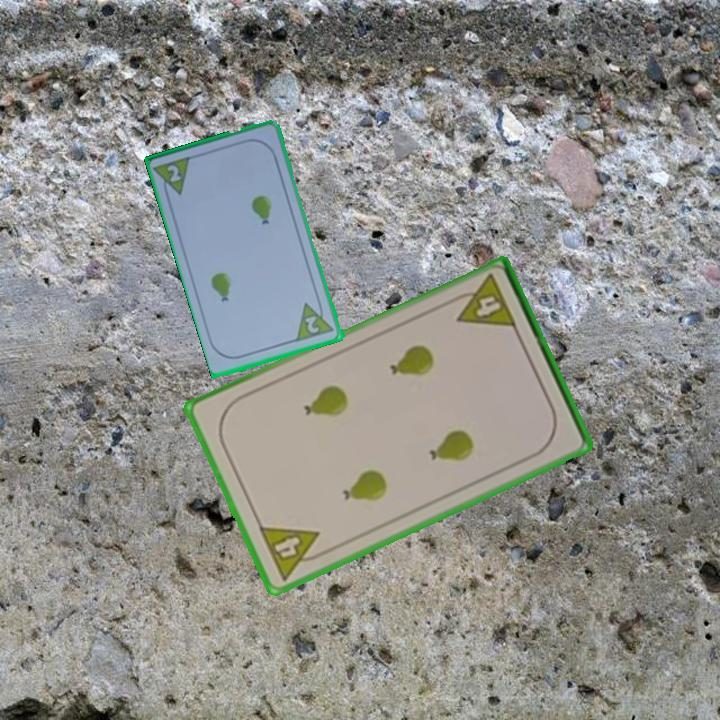2p: (152, 153, 195, 202), (302, 312, 322, 337)
4p: (255, 522, 331, 584), (446, 271, 520, 332)
